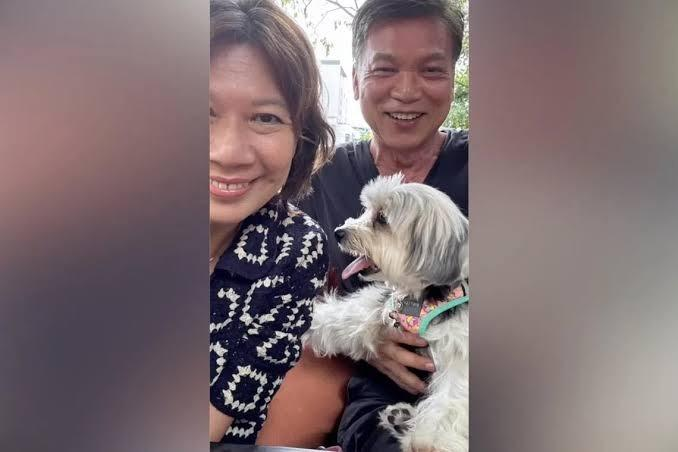adult_dog: (299, 176, 471, 451)
non-dog: (308, 0, 470, 397), (209, 0, 338, 452)
